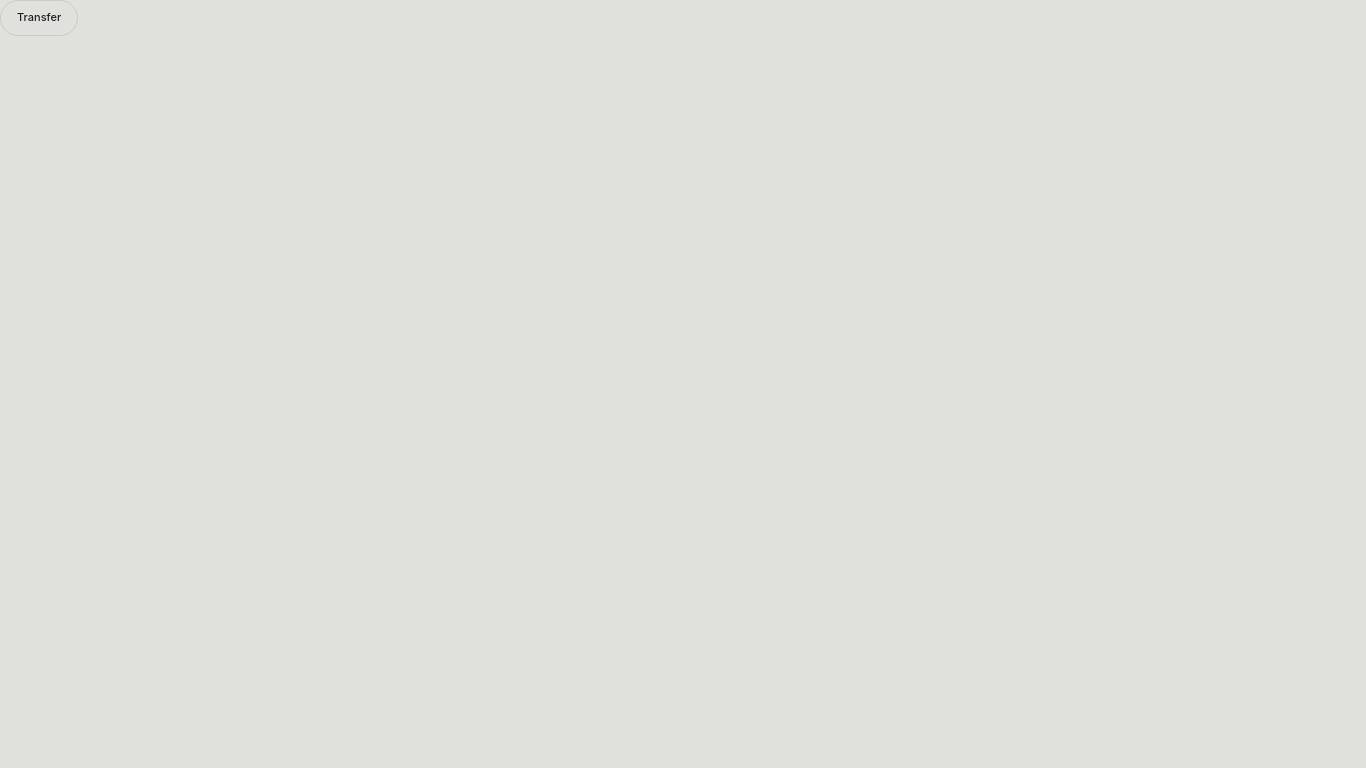
Test: keeps Transfer available and explains when no destination permits creation
This screenshot has width=1366, height=768.
What coordinates should you click on to do the following:
click the button "Transfer"
I would click on:
 (39, 18)
Its box is [0, 0, 78, 36].
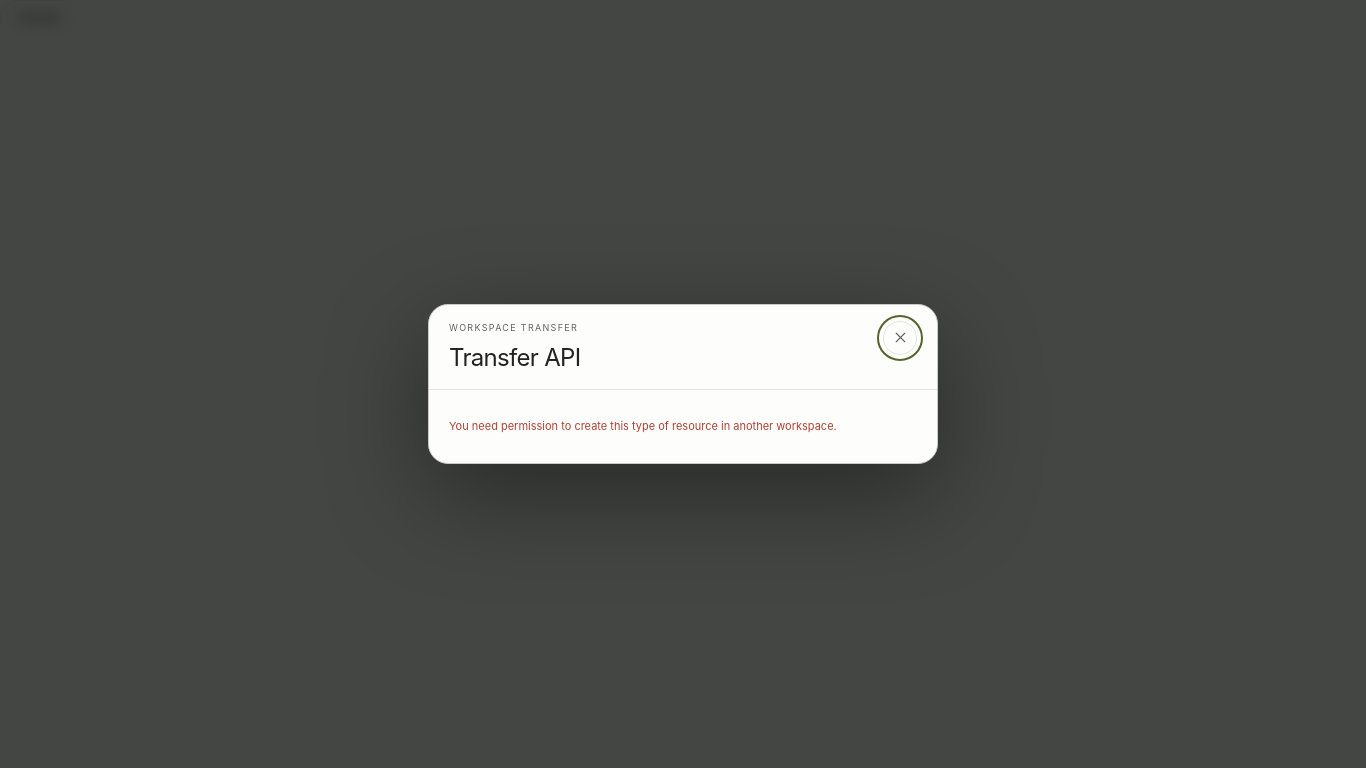
Result: the message reads "You need permission to create this type of resource in another workspace." at [449, 419, 837, 433]
